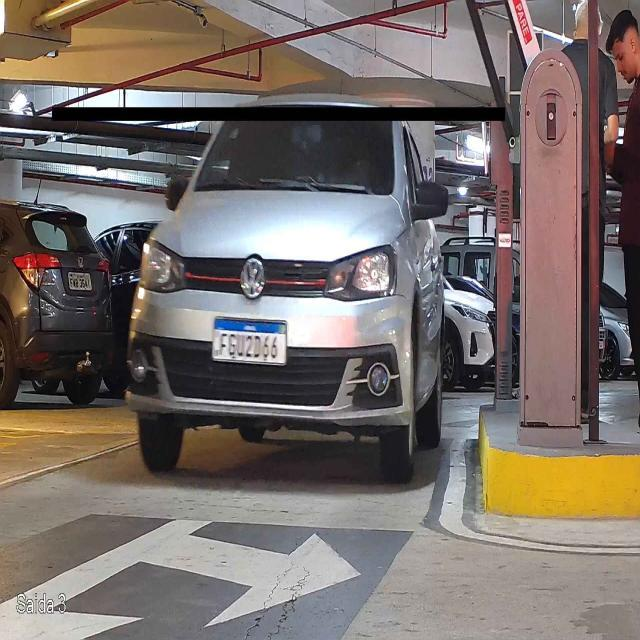mercosul_plate: (212, 316, 290, 368)
